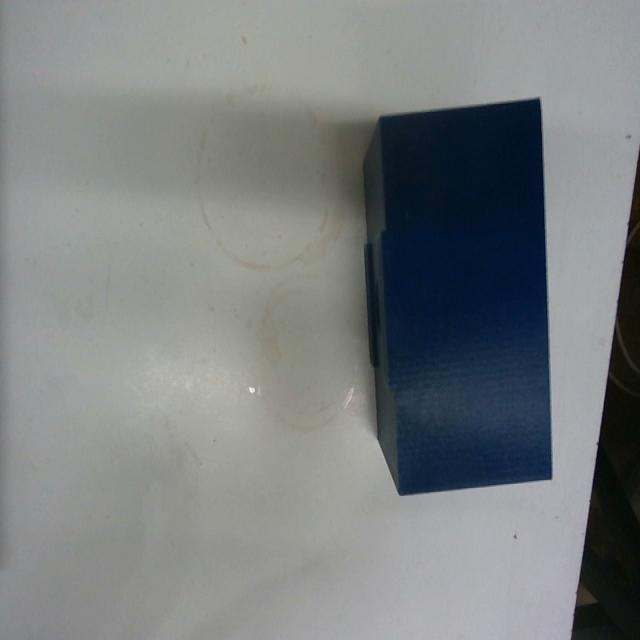Blue Cuboid: (358, 94, 555, 498)
